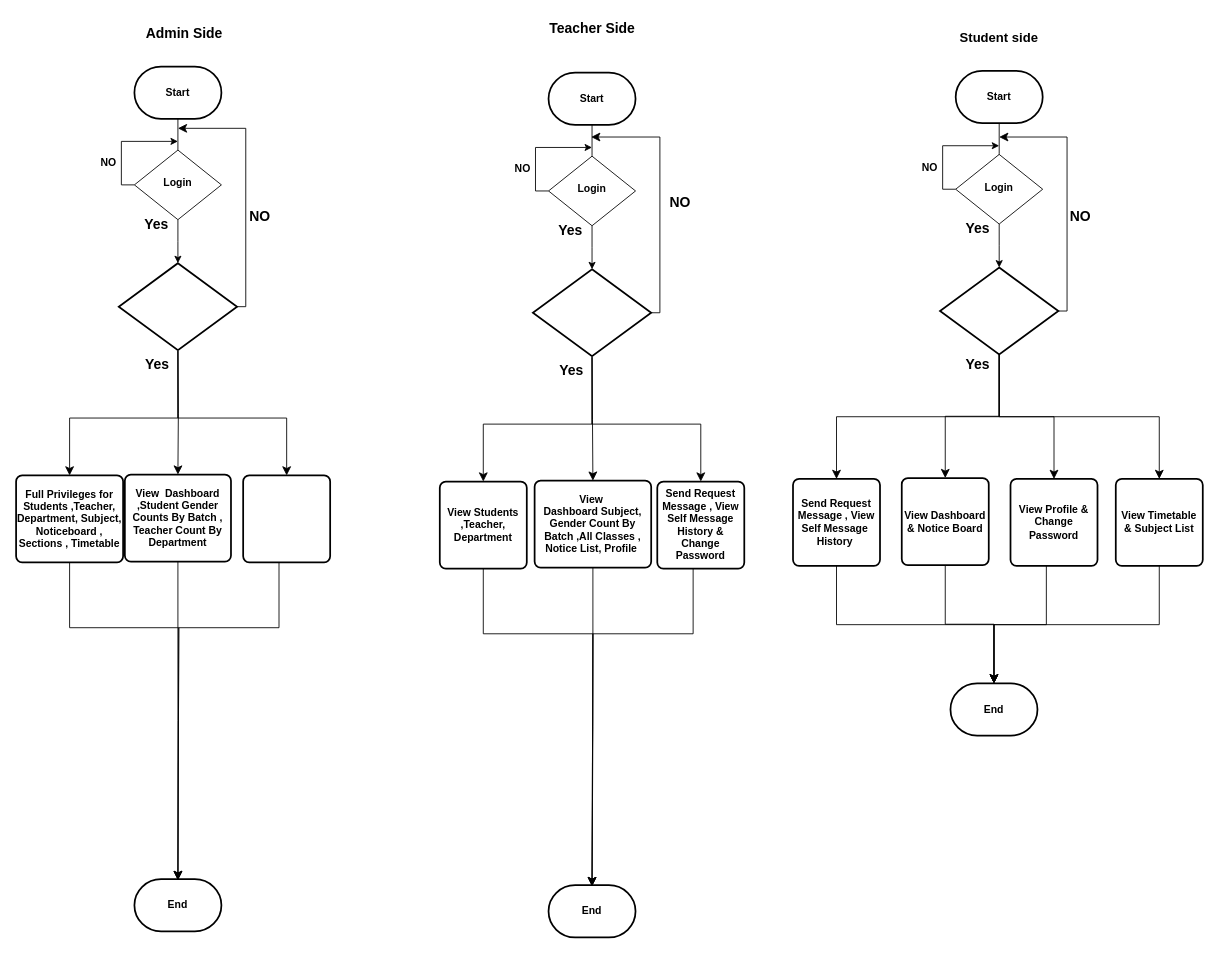
The diagram is 1218 pixels wide and 953 high, and some of its shapes have lost their labels. The shapes that lost their labels are listed below. From the top down, each one's box as (x1, y1, x2, y2) in pixels, then its label:
(117, 262, 238, 351): Active
(532, 268, 652, 357): Acitve
(939, 266, 1059, 355): Is Student Active
(242, 474, 331, 563): View Requested Message, View Profile & Change Password
